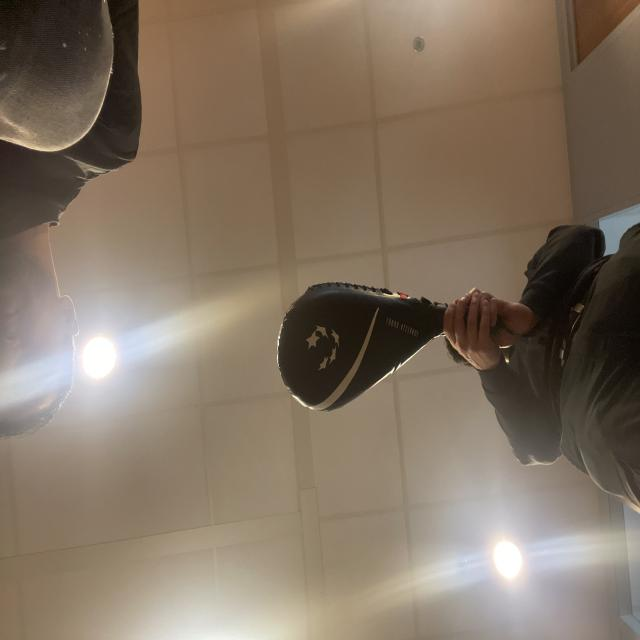paddle: (276, 293, 401, 411)
